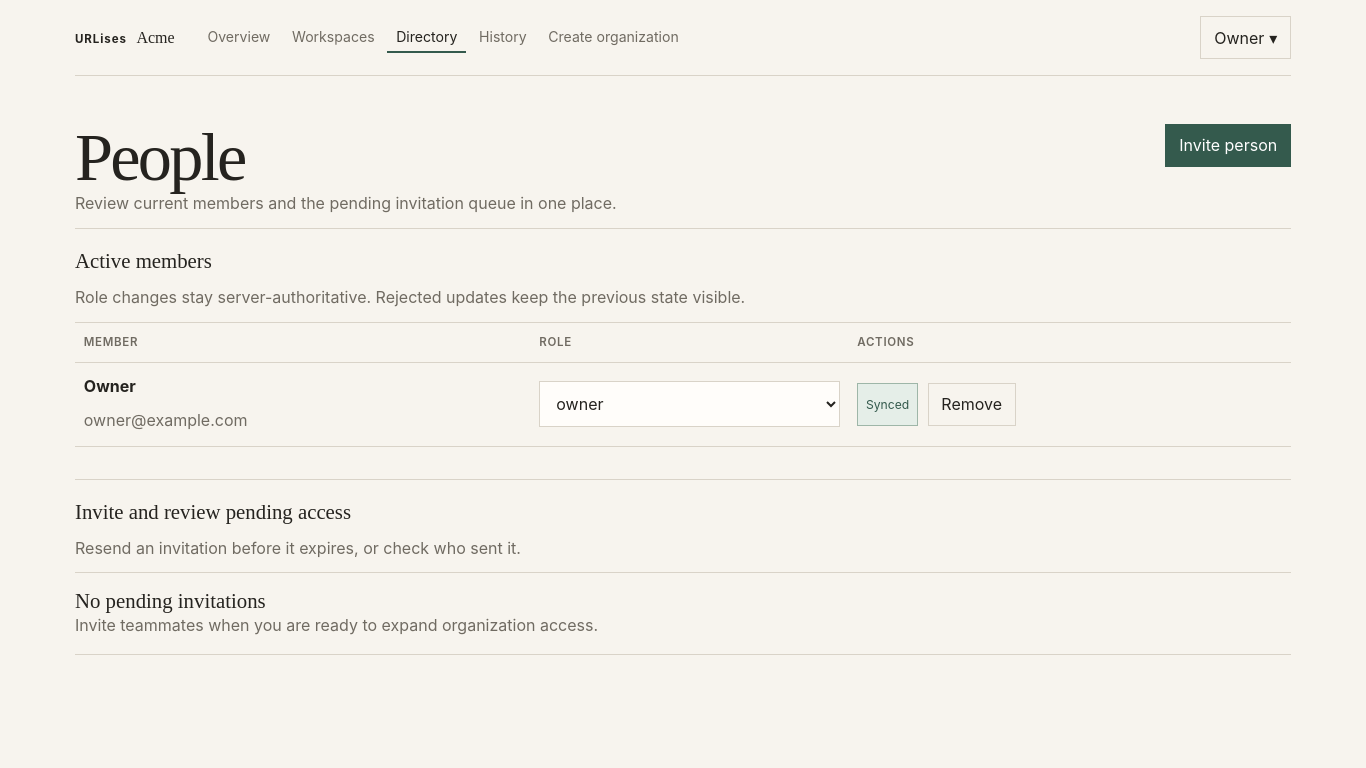
members page › keeps the previous role visible when the backend rejects a role change
Select "admin" in the dropdown named "role for owner@example.com" at (690, 404), box x1=539 y1=381 x2=840 y2=428
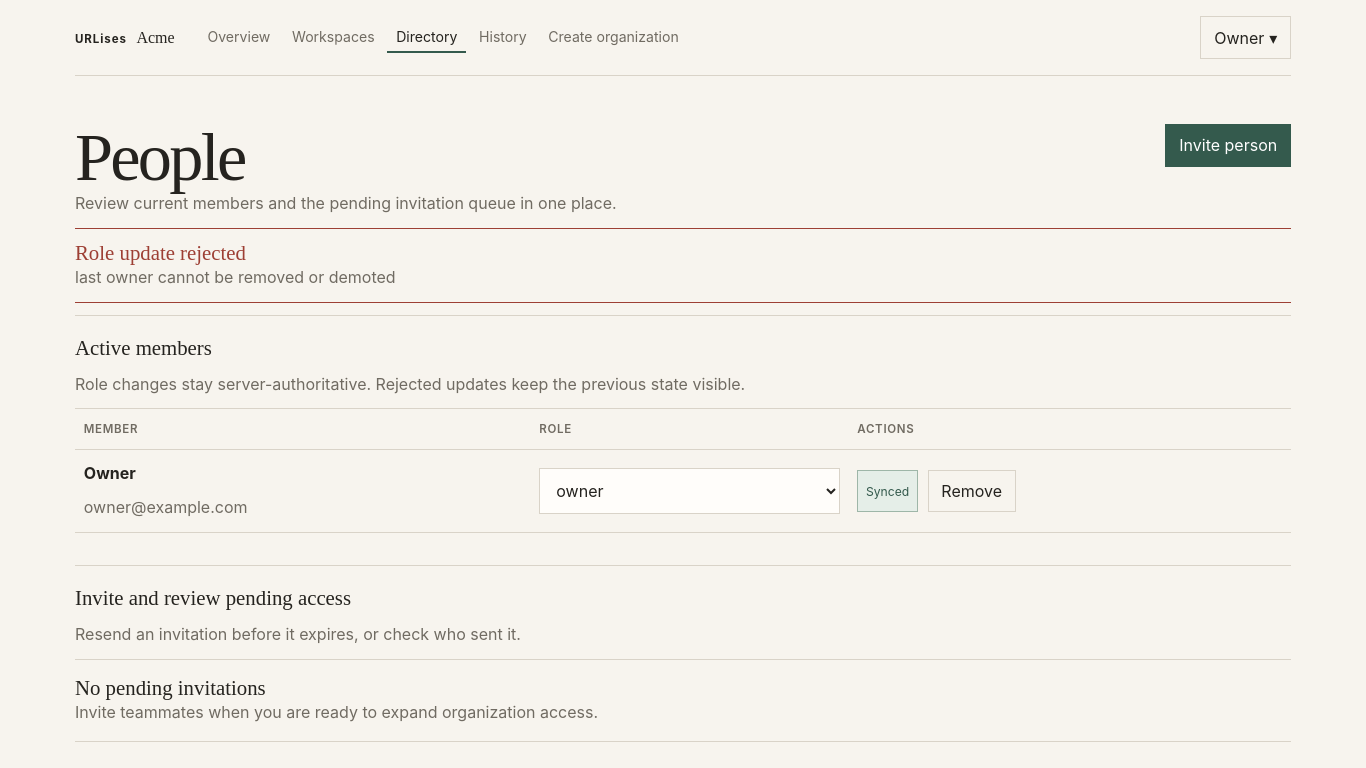
expect the heading "Role update rejected" is shown: met, box x1=75 y1=241 x2=246 y2=264
